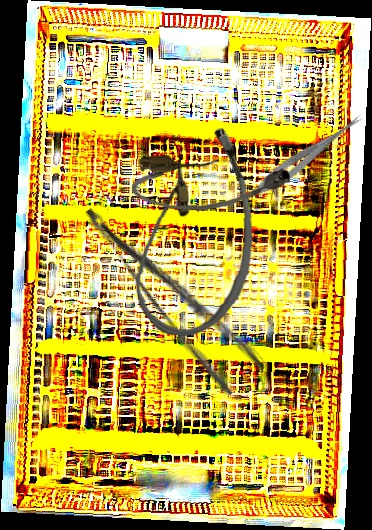Cannula: (132, 125, 257, 338), (131, 154, 292, 215)
Dressing Forceps: (81, 181, 268, 400)
Micro Scissor: (249, 107, 367, 202)
